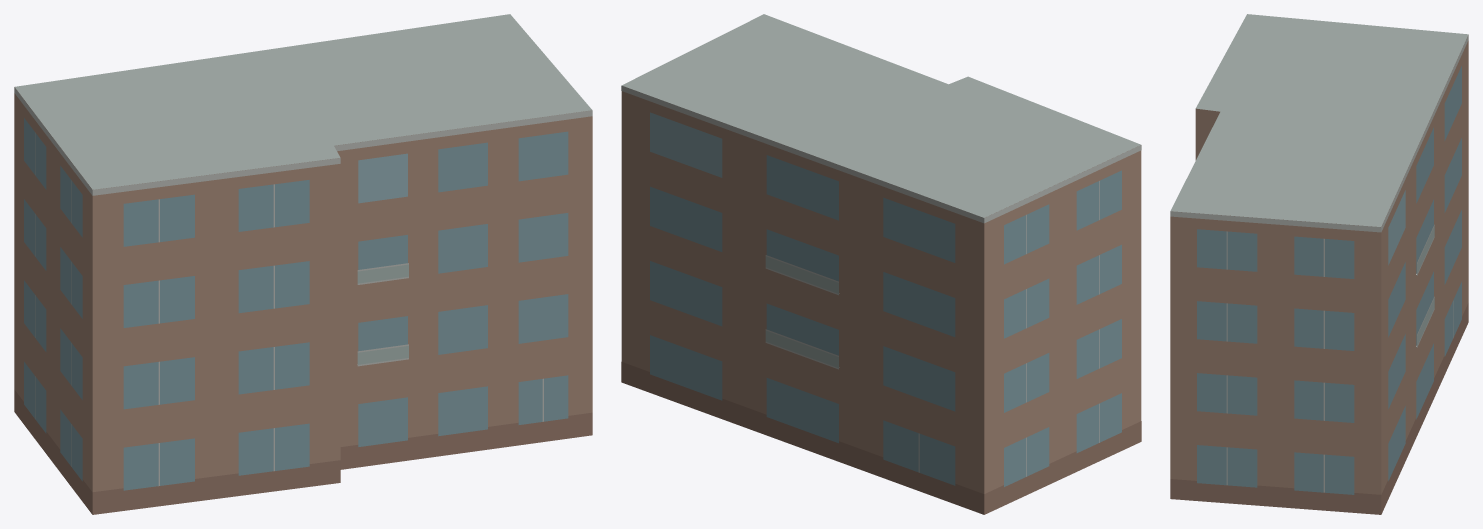
Rendered from survey-upis-32705403.glb.
The picture shows the model from 3 angles, left to right: view 1: azimuth 30°, elevation 25°; view 2: azimuth 150°, elevation 25°; view 3: azimuth 270°, elevation 25°; orthographic projection. The views are drawn at different scales.
Visible parts, largest first — view 1: survey-upis-32705403.tmp; view 2: survey-upis-32705403.tmp; view 3: survey-upis-32705403.tmp.
Boxes of the visible parts, box(x1,y1,x2,y2) form: survey-upis-32705403.tmp: box(14, 14, 592, 514); survey-upis-32705403.tmp: box(621, 14, 1141, 514); survey-upis-32705403.tmp: box(1170, 14, 1468, 514).
Bounding box in the file's own units: 20.98 × 13.2 × 12.41.
